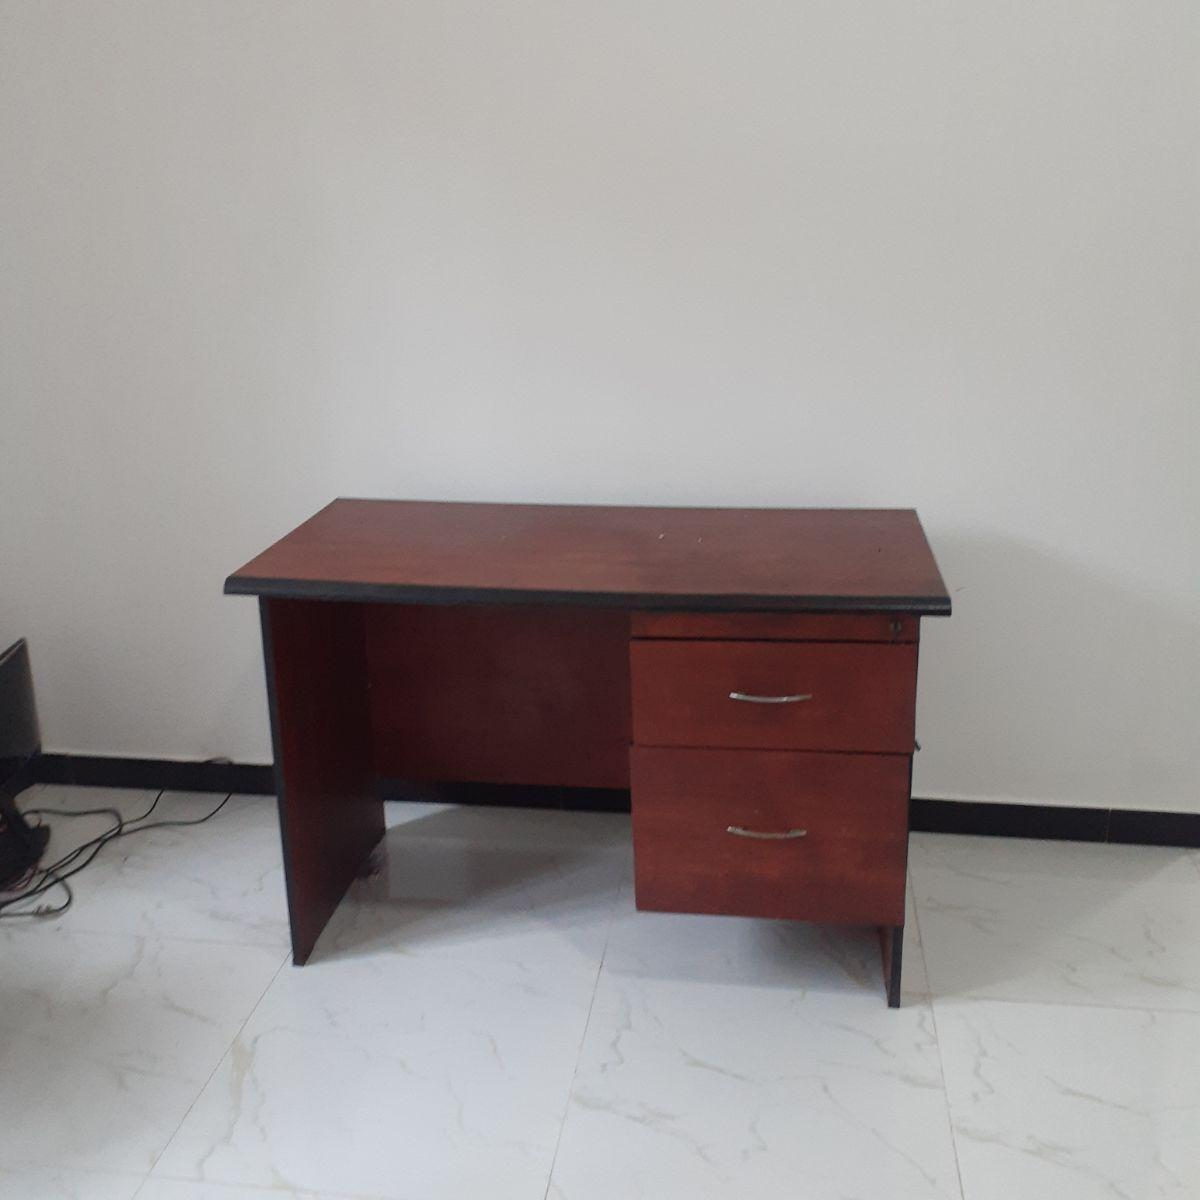Table: (189, 468, 1007, 1052)
